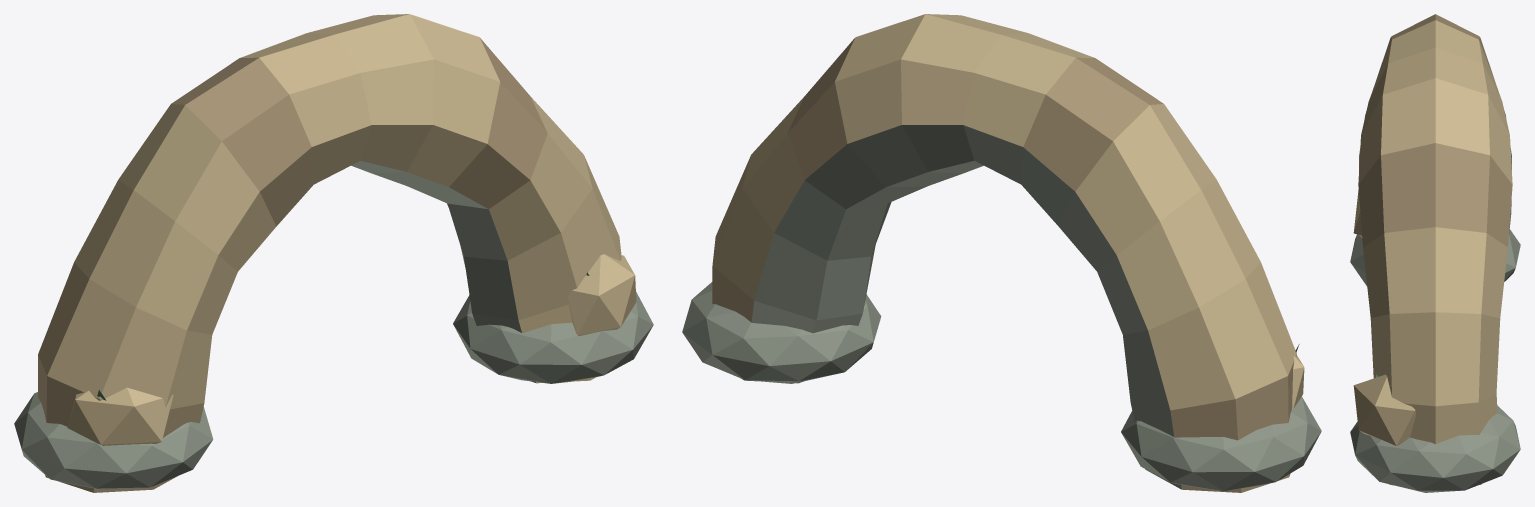
The model's file is sea_arch.glb.
3 views of the same model, side by side, from view 1: azimuth 30°, elevation 25°; view 2: azimuth 150°, elevation 25°; view 3: azimuth 270°, elevation 25° (orthographic). The views are drawn at different scales.
Parts seen in each view (by area): view 1: Pigment_c7b58d, Pigment_8c9486; view 2: Pigment_c7b58d, Pigment_8c9486; view 3: Pigment_c7b58d, Pigment_8c9486.
Boxes of the visible parts, <box> form: Pigment_c7b58d: <box>38,14,636,492</box>; Pigment_8c9486: <box>14,292,653,489</box>; Pigment_c7b58d: <box>712,14,1304,492</box>; Pigment_8c9486: <box>682,282,1321,491</box>; Pigment_c7b58d: <box>1353,14,1512,492</box>; Pigment_8c9486: <box>1350,229,1520,492</box>.
Bounding box in the file's own units: 9.23 × 5.59 × 2.54.
